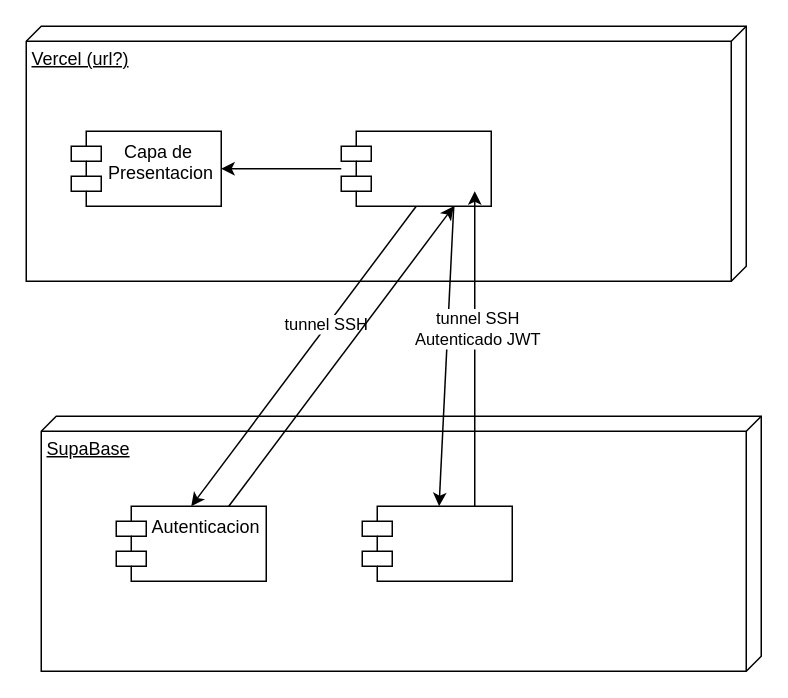
This 788x698 diagram has some shape labels left out. Each missing label, with the centre of its shape:
Base de datos (Postgrees relacional): the point at 436,543
Servidor Serverless: the point at 415,168
